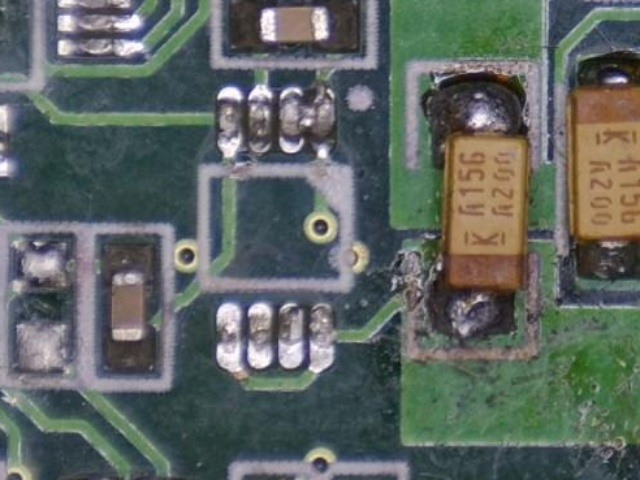pcb_defect: (278, 80, 336, 159)
